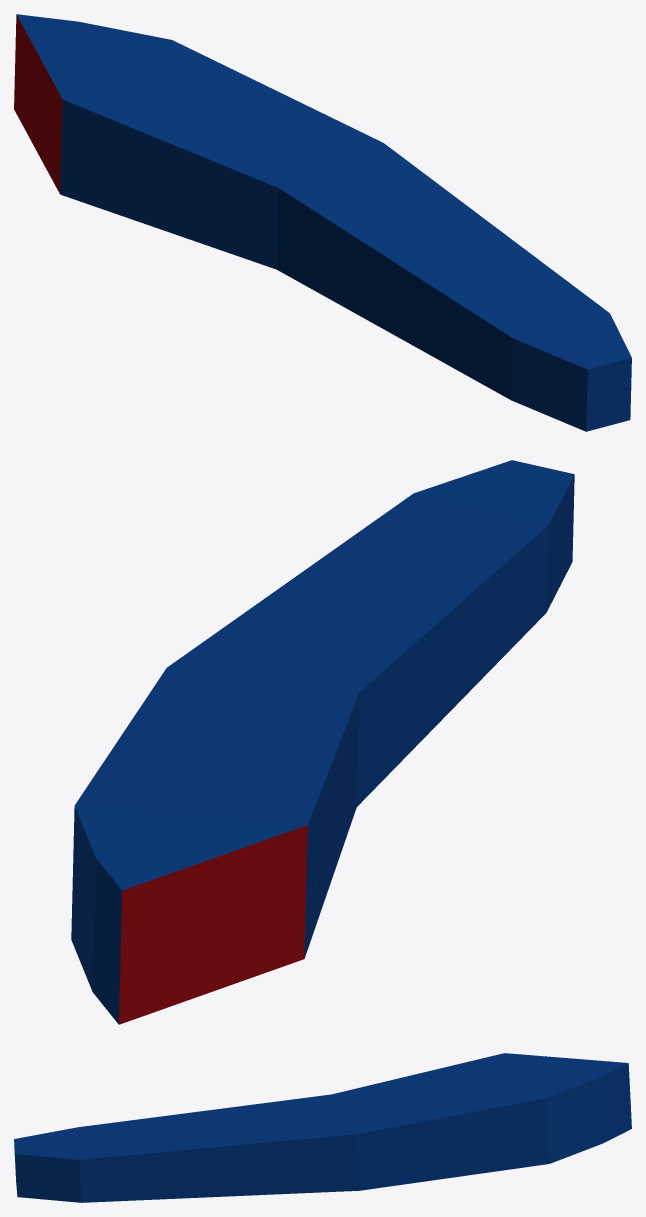
Rendered from disembodied-arm(1).fbx.
3 renders of one model, top to bottom at view 1: azimuth 30°, elevation 25°; view 2: azimuth 150°, elevation 25°; view 3: azimuth 270°, elevation 25°, orthographic. The views are drawn at different scales.
Parts seen in each view (by area): view 1: Cube; view 2: Cube; view 3: Cube.
Boxes of the visible parts, bbox=[...] form: Cube: bbox=[14, 14, 631, 431]; Cube: bbox=[71, 460, 574, 1024]; Cube: bbox=[14, 1053, 631, 1202].
Size of the model in its own units: 89.61 by 42.69 by 300.
